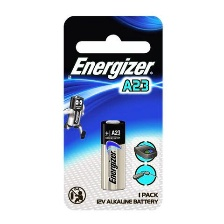battery: (99, 117, 126, 194)
book: (59, 11, 165, 211)
